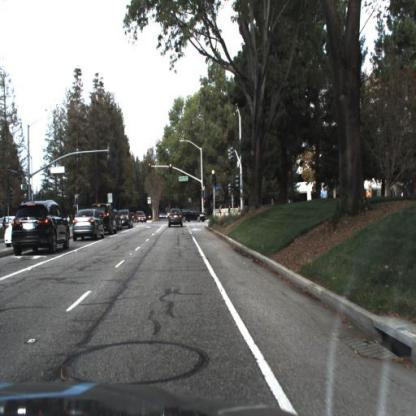car: (11, 199, 72, 259), (73, 207, 105, 243), (92, 206, 119, 236), (184, 208, 209, 224), (168, 206, 186, 228), (115, 210, 133, 228), (135, 211, 148, 223)
pedestrian: (322, 183, 332, 205), (311, 186, 318, 206)
trafficLight-Red: (167, 162, 175, 178), (211, 169, 218, 187), (211, 169, 217, 186), (75, 195, 80, 207)
trafficLight-RedLeft: (147, 160, 153, 174)
